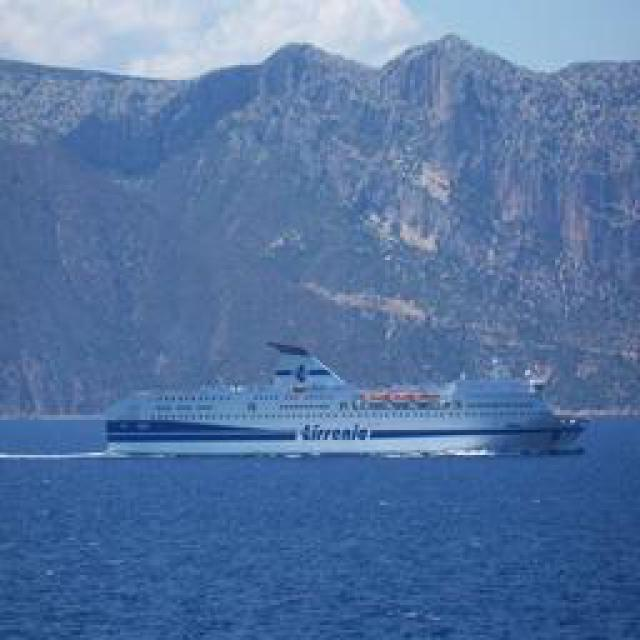Ship: (107, 345, 587, 455)
